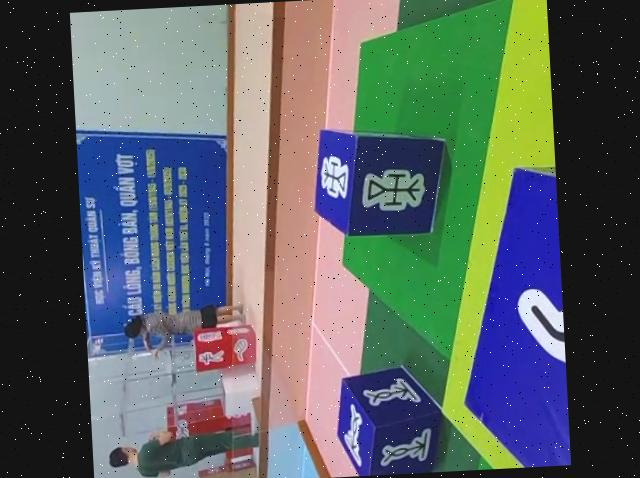R2 Real Blue: (309, 124, 452, 241), (331, 363, 446, 478)
